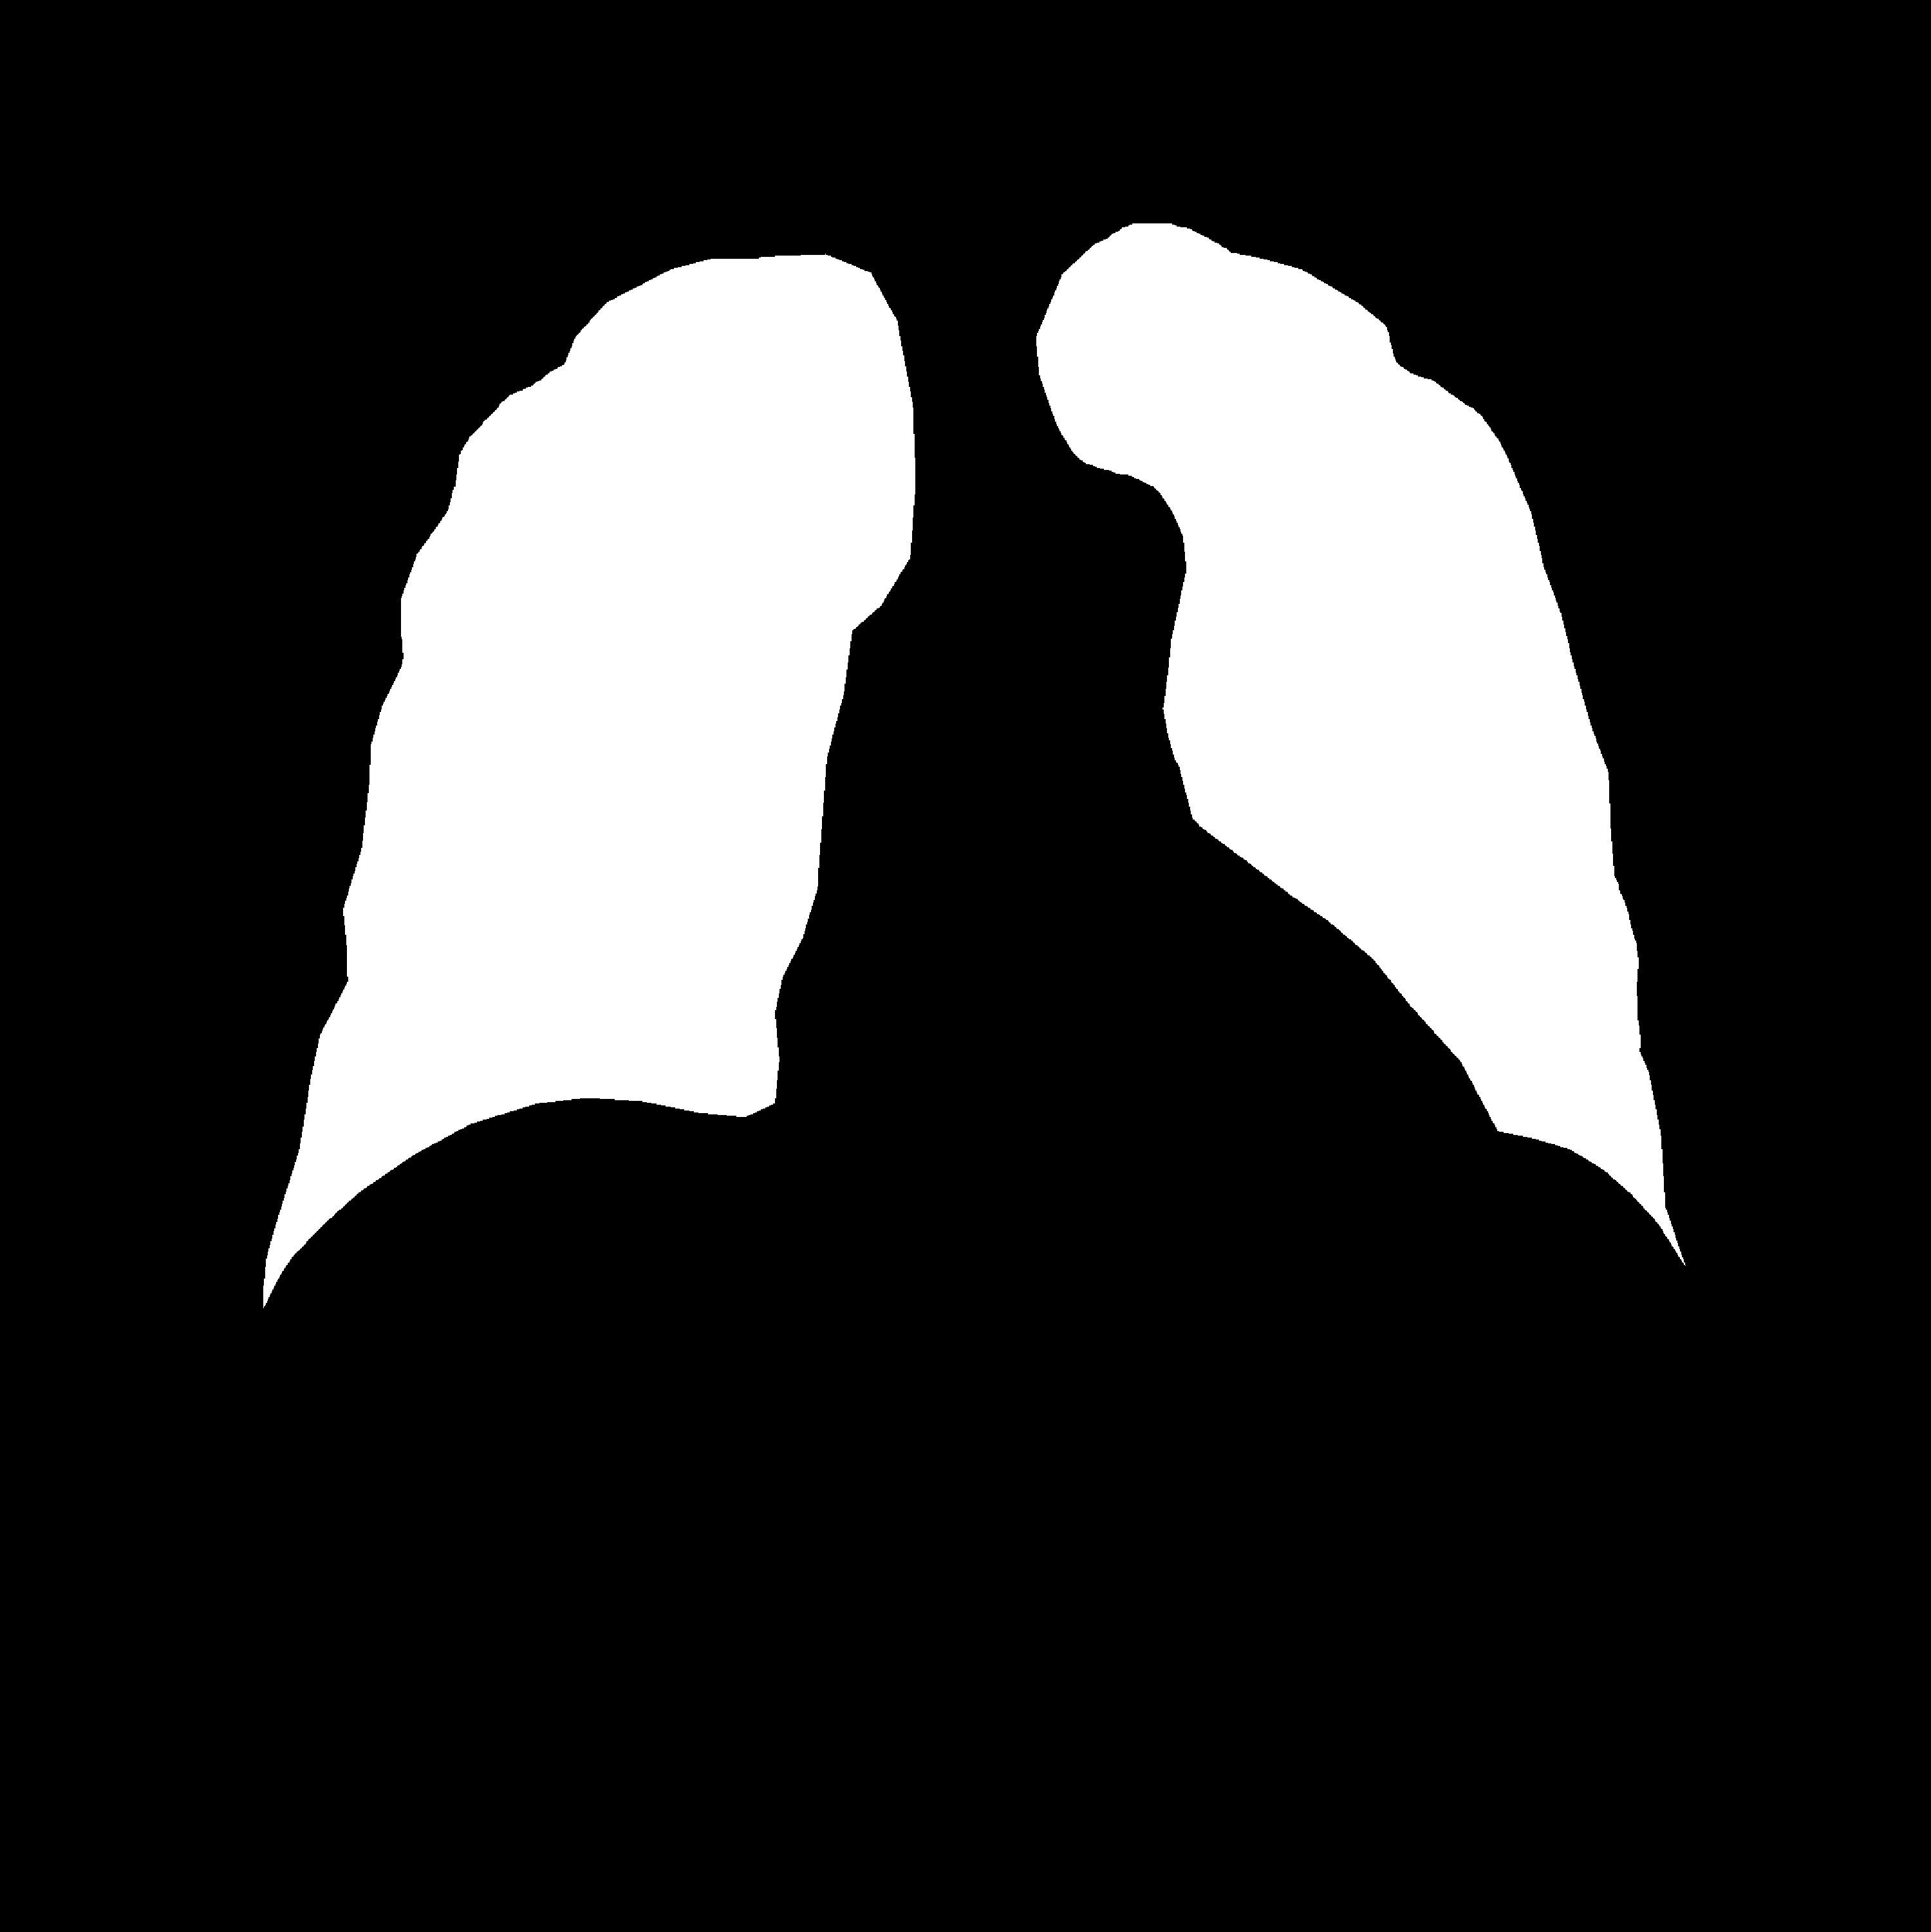heart: (771, 879, 1517, 1316)
left_lung: (263, 253, 914, 1307)
right_lung: (1036, 223, 1685, 1265)
